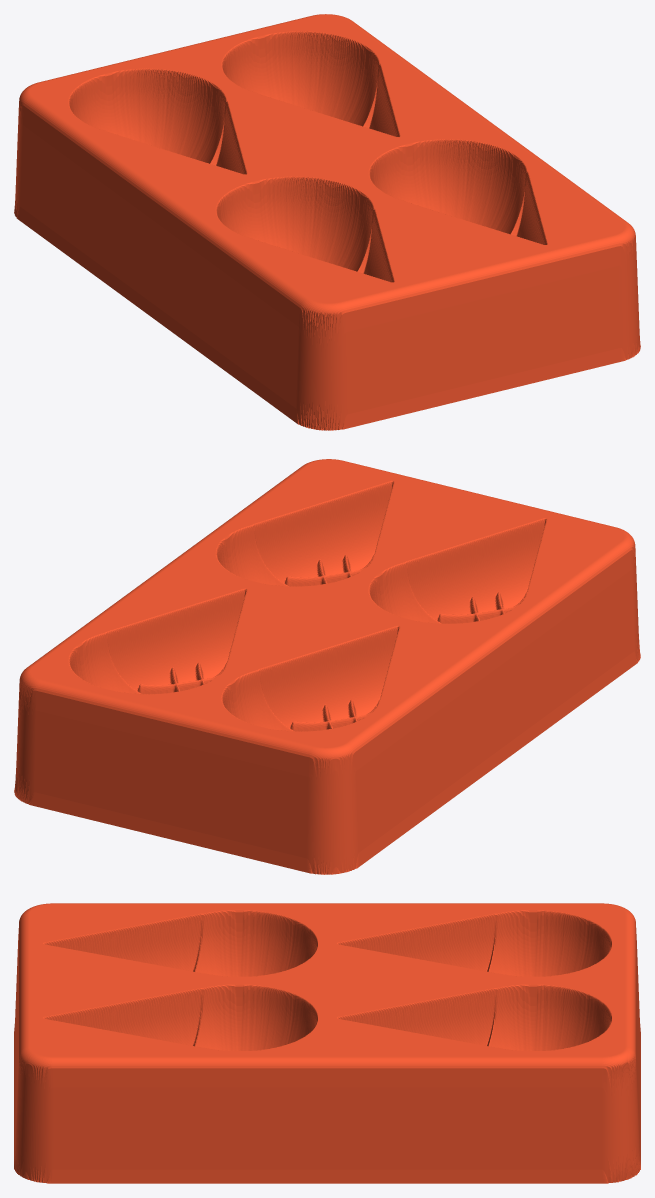
File: mold.glb
The picture shows the model from 3 angles, top to bottom: view 1: azimuth 30°, elevation 25°; view 2: azimuth 150°, elevation 25°; view 3: azimuth 270°, elevation 25°; orthographic projection.
Visible parts, largest first — view 1: geometry_0; view 2: geometry_0; view 3: geometry_0.
Part boxes in pixels (x1,y1,x2,y2): geometry_0: (14, 14, 640, 430); geometry_0: (14, 459, 640, 874); geometry_0: (14, 903, 640, 1183).
Size of the model in its own units: 0.0916 by 0.031 by 0.1466.
